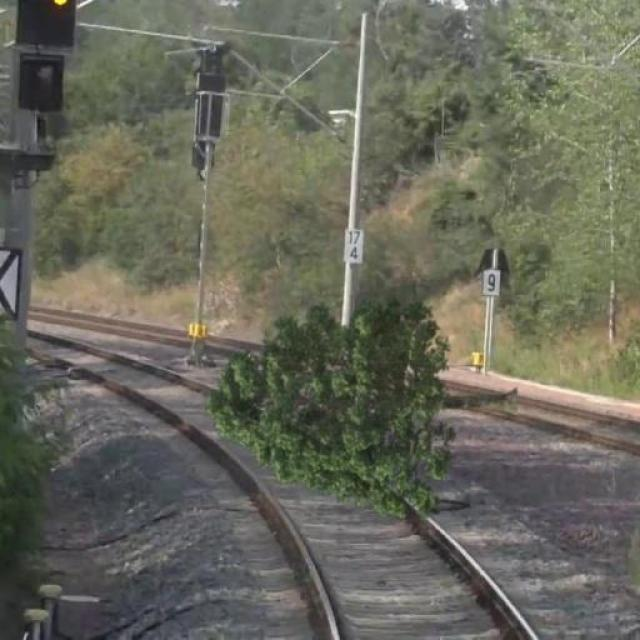Fallen Trees: (231, 321, 522, 468)
